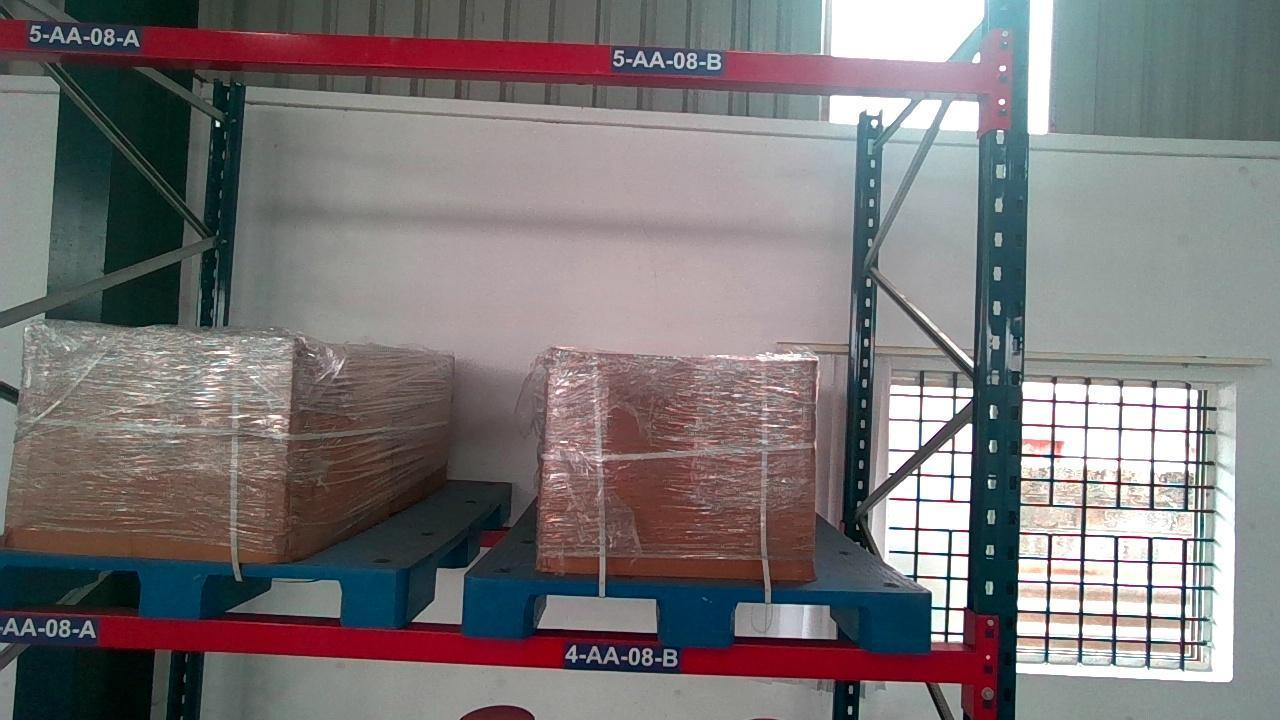h_rack: (0, 22, 988, 96), (0, 609, 983, 681)
small_pallet: (461, 579, 932, 646), (1, 557, 395, 619)
